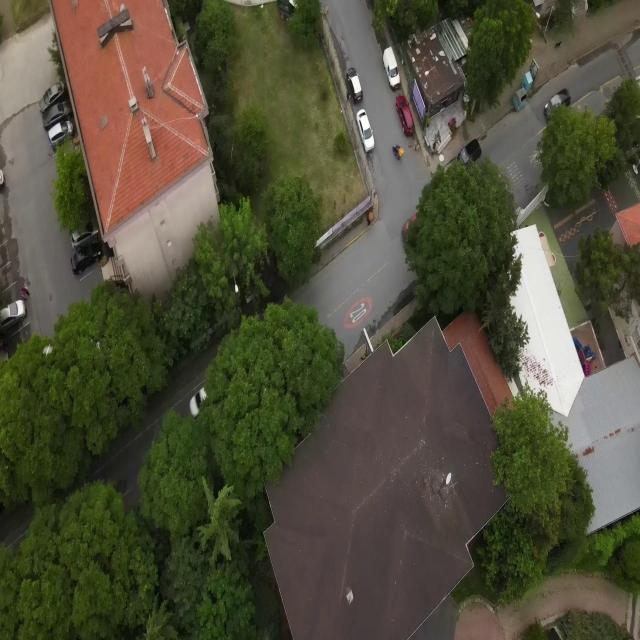p3rson: (366, 211, 374, 228), (22, 286, 31, 297), (20, 292, 27, 302), (347, 90, 351, 102)
